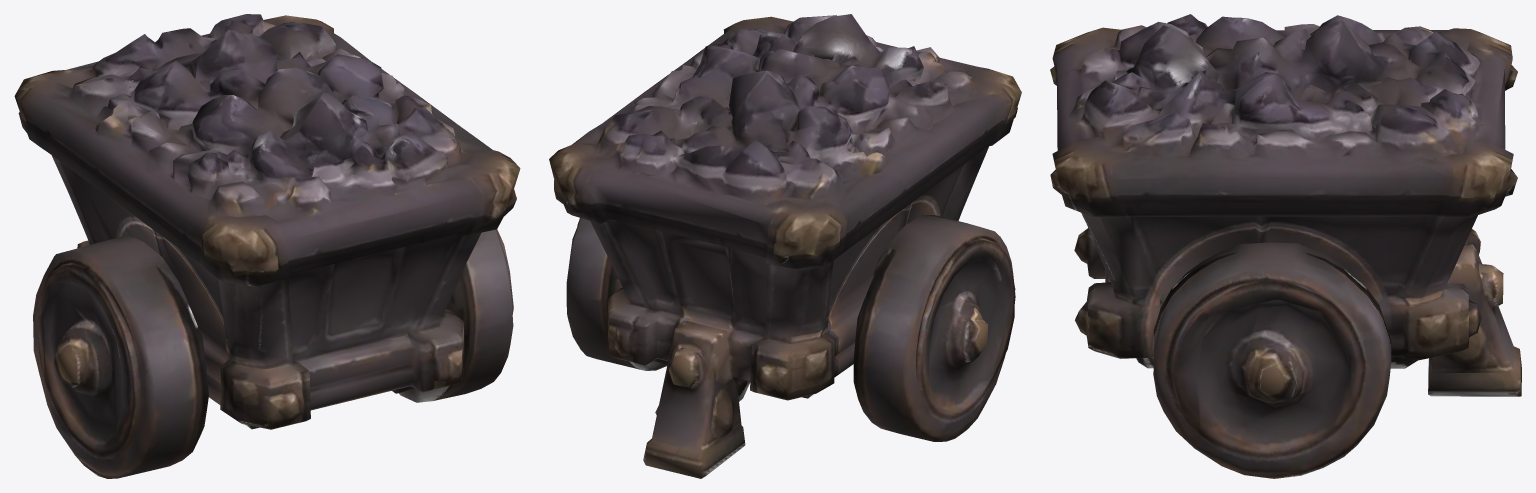
File: SM_Env_SlagCart.glb
The picture shows the model from 3 angles, left to right: view 1: azimuth 30°, elevation 25°; view 2: azimuth 150°, elevation 25°; view 3: azimuth 270°, elevation 25°; orthographic projection. The views are drawn at different scales.
Parts seen in each view (by area): view 1: SM_Env_SlagCart_LOD0; view 2: SM_Env_SlagCart_LOD0; view 3: SM_Env_SlagCart_LOD0.
Part boxes in pixels (<box>): SM_Env_SlagCart_LOD0: <box>14,14,520,478</box>; SM_Env_SlagCart_LOD0: <box>549,14,1021,478</box>; SM_Env_SlagCart_LOD0: <box>1050,14,1521,478</box>.
Bounding box in the file's own units: 2.52 × 2.17 × 2.52.
Materials: 1 (1 with a texture image).
